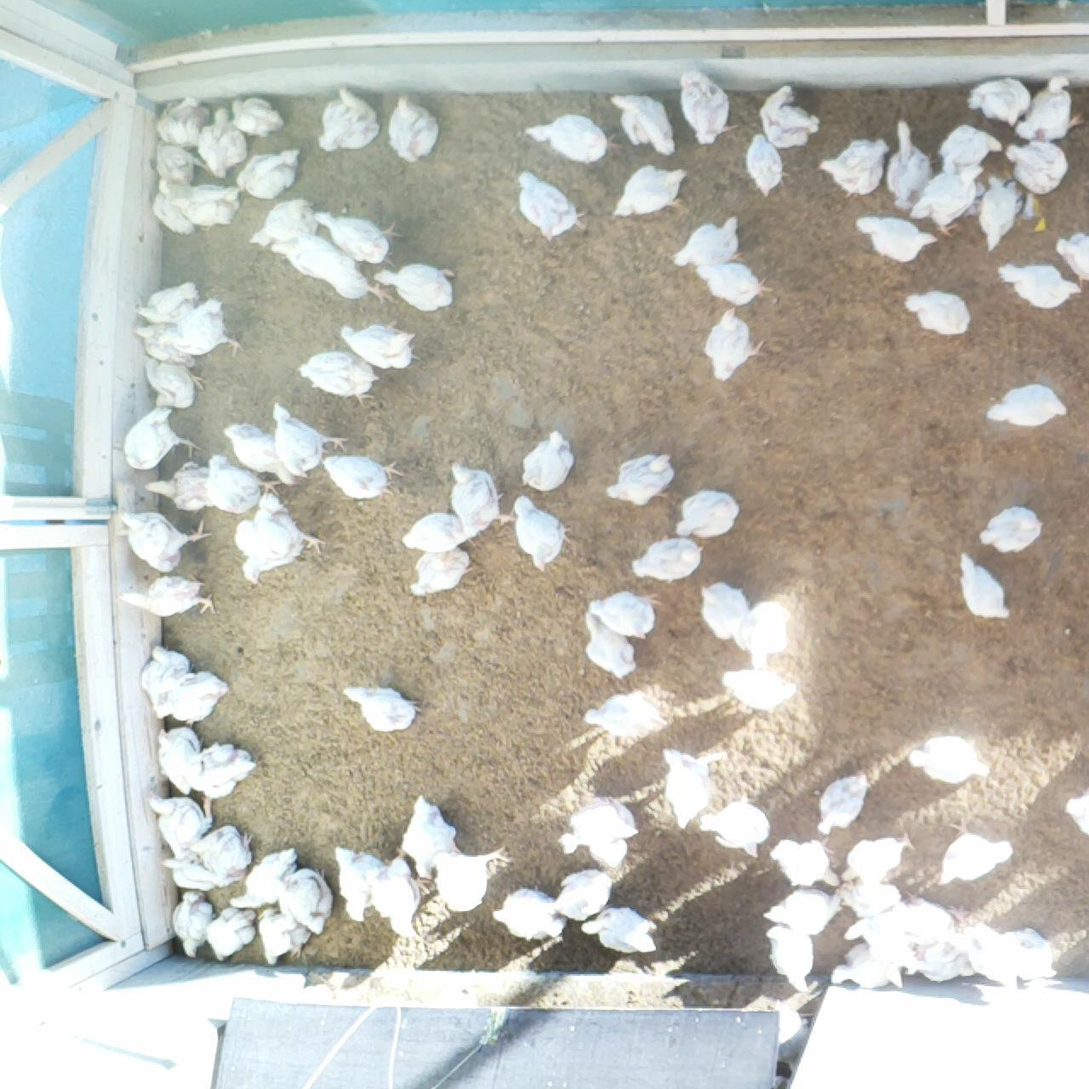chicken: (231, 490, 326, 594), (269, 235, 394, 305), (268, 396, 348, 480), (116, 506, 213, 574), (934, 811, 1016, 891), (155, 292, 244, 362), (431, 839, 514, 914), (311, 202, 405, 268), (909, 164, 988, 241), (120, 401, 200, 476), (401, 792, 462, 890), (697, 306, 767, 390), (445, 453, 516, 535), (512, 168, 587, 244), (695, 788, 773, 860), (314, 80, 383, 159), (520, 109, 610, 169), (813, 135, 891, 203), (994, 257, 1085, 315), (205, 447, 282, 515), (316, 450, 406, 508), (144, 786, 216, 858), (510, 491, 573, 573), (581, 687, 669, 745), (297, 347, 382, 407), (676, 64, 735, 150), (848, 209, 937, 265), (1015, 70, 1087, 139), (179, 736, 260, 797), (609, 165, 695, 222), (659, 741, 711, 835), (885, 117, 935, 214), (491, 883, 566, 947), (371, 259, 458, 314), (232, 844, 302, 912), (338, 682, 424, 737), (983, 377, 1068, 432), (759, 885, 845, 939), (556, 801, 637, 858), (326, 844, 385, 922), (384, 88, 443, 166), (908, 731, 993, 785), (604, 448, 678, 510), (736, 595, 796, 671), (608, 90, 676, 157), (955, 547, 1014, 624), (670, 211, 744, 272), (976, 923, 1059, 977), (337, 318, 420, 372), (113, 575, 218, 617), (221, 420, 294, 480), (579, 606, 637, 680), (581, 905, 659, 960), (842, 827, 917, 884), (718, 663, 800, 715), (408, 540, 479, 600), (587, 587, 669, 638), (516, 428, 576, 496), (1003, 140, 1074, 197), (756, 84, 819, 148), (765, 834, 838, 889), (814, 771, 872, 840), (187, 823, 259, 878), (963, 70, 1030, 129), (629, 533, 708, 583), (693, 259, 778, 305), (169, 180, 245, 231), (198, 105, 250, 179), (247, 197, 318, 251), (141, 460, 213, 513), (763, 920, 812, 996), (552, 865, 615, 924), (905, 892, 968, 951), (135, 353, 201, 409), (591, 793, 637, 873), (138, 644, 185, 722), (671, 487, 740, 540), (398, 510, 474, 558), (977, 502, 1045, 554), (168, 666, 232, 721), (153, 722, 200, 796), (131, 278, 204, 325), (975, 173, 1017, 254), (207, 897, 258, 963), (901, 288, 974, 334), (961, 926, 1015, 988), (166, 889, 213, 960), (258, 907, 315, 965), (699, 577, 747, 644), (745, 130, 792, 198), (152, 93, 208, 148), (938, 120, 1003, 167), (903, 938, 971, 981), (132, 322, 198, 366), (843, 909, 905, 954), (149, 178, 195, 238), (155, 852, 222, 893), (229, 93, 286, 141), (150, 142, 211, 186), (827, 943, 882, 991), (1048, 228, 1089, 284), (1062, 787, 1089, 835)
